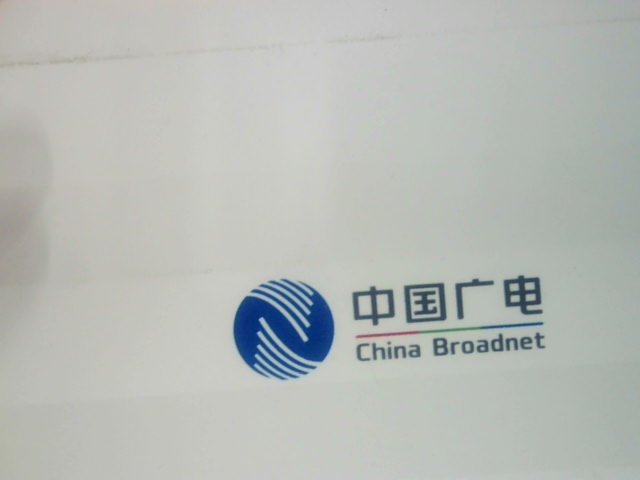AW_ChinaBroadNet: (216, 265, 557, 378)
